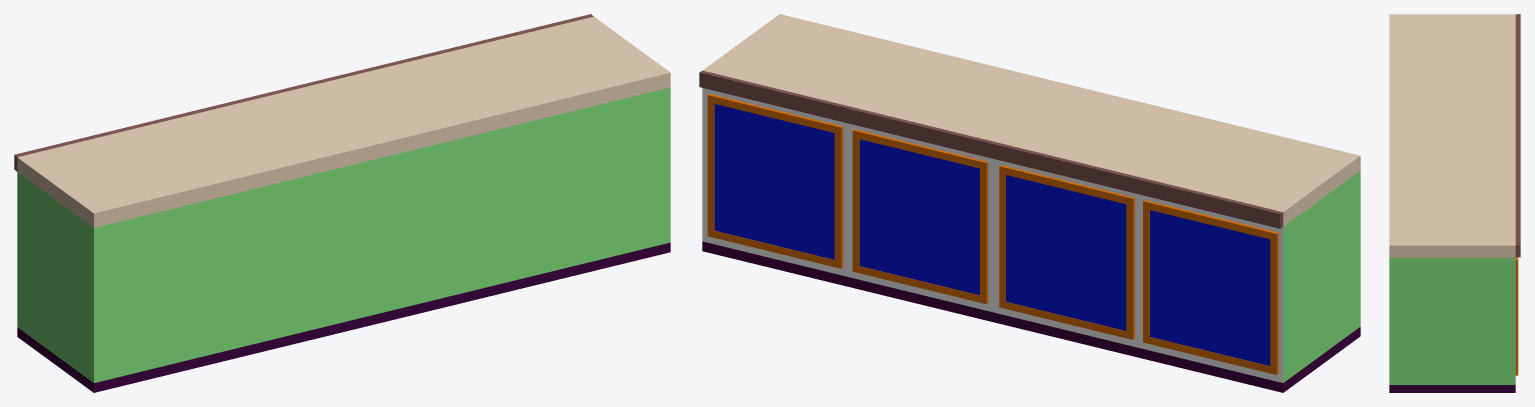
Rendered from contoir.fbx.
The picture shows the model from 3 angles, left to right: view 1: azimuth 30°, elevation 25°; view 2: azimuth 150°, elevation 25°; view 3: azimuth 270°, elevation 25°; orthographic projection. The views are drawn at different scales.
Visible parts, largest first — view 1: Cube.001; view 2: Cube.001, Cube.004, Cube.011, Cube.010, Cube.015, Cube.003, Cube.005, Cube.006, Cube.017; view 3: Cube.001, Cube.003.
Boxes of the visible parts, <box> form: Cube.001: <box>14,14,670,392</box>; Cube.001: <box>699,14,1360,392</box>; Cube.004: <box>859,139,979,295</box>; Cube.011: <box>1006,175,1126,330</box>; Cube.010: <box>714,104,834,259</box>; Cube.015: <box>1150,210,1270,365</box>; Cube.003: <box>707,94,843,268</box>; Cube.005: <box>852,129,988,304</box>; Cube.006: <box>999,165,1134,339</box>; Cube.017: <box>1143,200,1278,374</box>; Cube.001: <box>1389,14,1520,392</box>; Cube.003: <box>1515,257,1518,375</box>.
Bounding box in the file's own units: 236 × 70.33 × 56.52.
